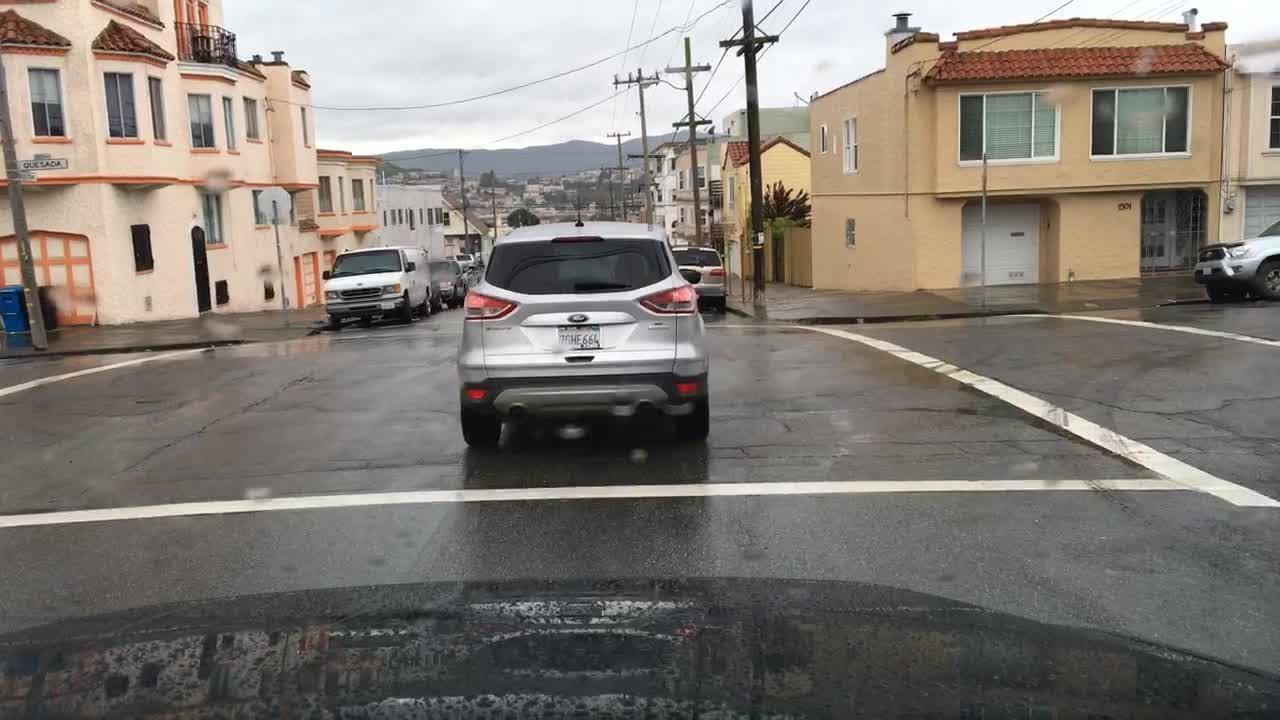ford: (564, 311, 594, 326)
